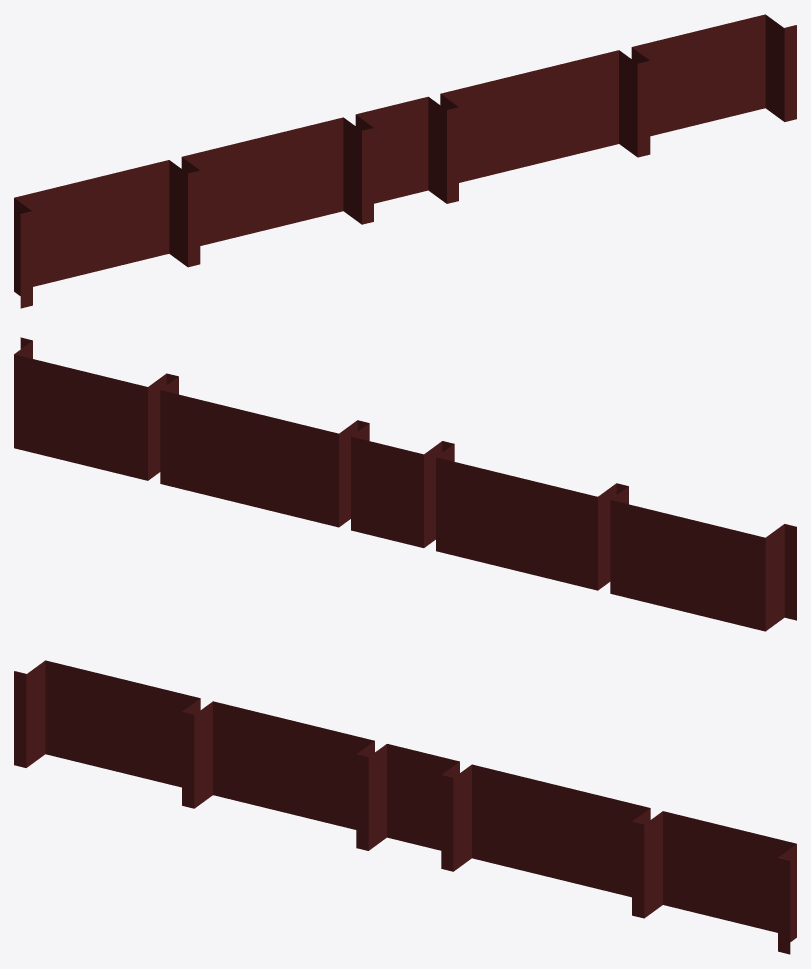
File: ground-floor-front.fbx
The picture shows the model from 3 angles, top to bottom: view 1: azimuth 30°, elevation 25°; view 2: azimuth 150°, elevation 25°; view 3: azimuth 330°, elevation 25°; orthographic projection.
Parts seen in each view (by area): view 1: ground-floor-front; view 2: ground-floor-front; view 3: ground-floor-front.
Part boxes in pixels (x1,y1,x2,y2): ground-floor-front: (14, 14, 796, 308); ground-floor-front: (14, 337, 796, 631); ground-floor-front: (14, 660, 796, 954).
Bounding box in the file's own units: 2509 × 290 × 107.
